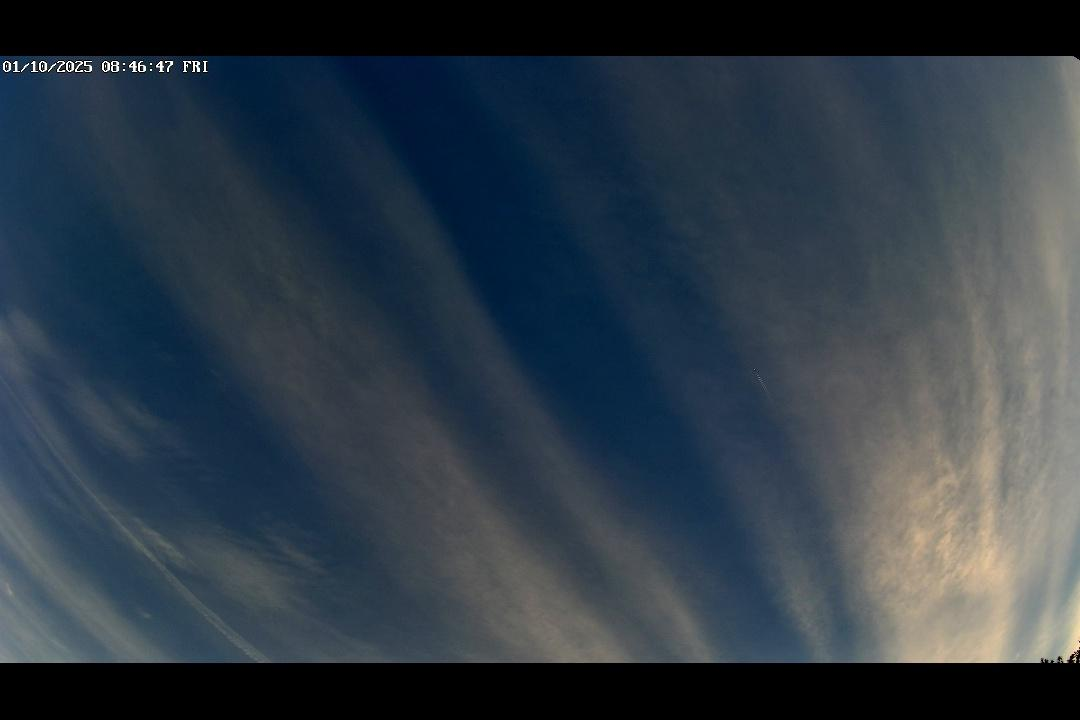Plane: (747, 363, 774, 397)
